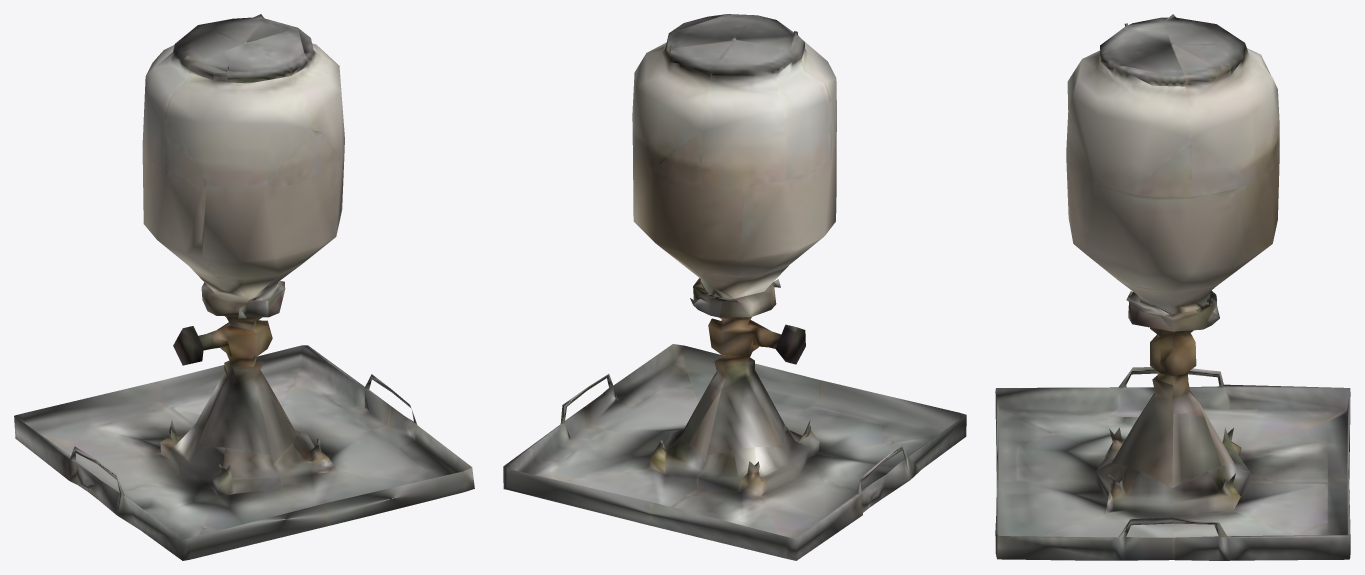
File: frasco-areia_lod1.glb
The picture shows the model from 3 angles, left to right: view 1: azimuth 30°, elevation 25°; view 2: azimuth 150°, elevation 25°; view 3: azimuth 270°, elevation 25°; orthographic projection. The views are drawn at different scales.
Visible parts, largest first — view 1: tripo_node_1235db21-403d-45ed-a579-5e4d4f94fca7; view 2: tripo_node_1235db21-403d-45ed-a579-5e4d4f94fca7; view 3: tripo_node_1235db21-403d-45ed-a579-5e4d4f94fca7.
Part boxes in pixels (x1,y1,x2,y2): tripo_node_1235db21-403d-45ed-a579-5e4d4f94fca7: (14, 14, 474, 560); tripo_node_1235db21-403d-45ed-a579-5e4d4f94fca7: (503, 14, 966, 560); tripo_node_1235db21-403d-45ed-a579-5e4d4f94fca7: (995, 14, 1350, 560).
Size of the model in its own units: 0.4464 by 0.5996 by 0.4343.
1 material, 1 textured.
